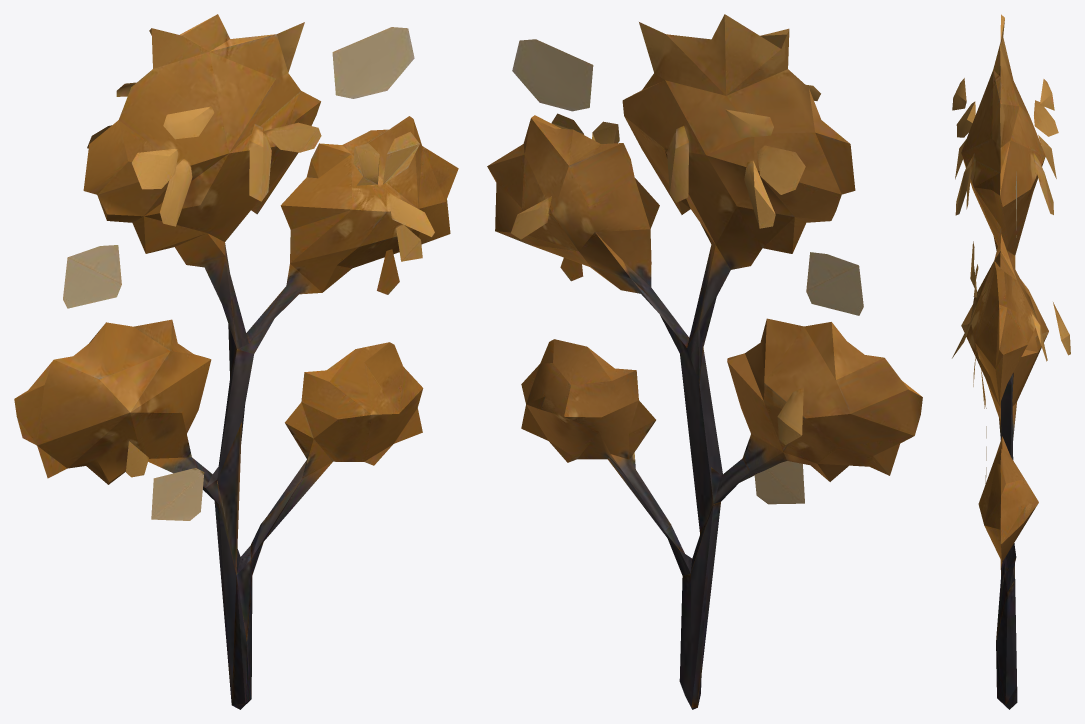
File: jt-ambre-semis.glb
3 renders of one model, left to right at view 1: azimuth 30°, elevation 25°; view 2: azimuth 150°, elevation 25°; view 3: azimuth 270°, elevation 25°, orthographic. The views are drawn at different scales.
Parts seen in each view (by area): view 1: jt-ambre-semis; view 2: jt-ambre-semis; view 3: jt-ambre-semis.
Part boxes in pixels (x1,y1,x2,y2): jt-ambre-semis: [14, 14, 458, 709]; jt-ambre-semis: [487, 14, 922, 709]; jt-ambre-semis: [952, 14, 1070, 709].
Size of the model in its own units: 1.25 by 1.91 by 0.3176.
Materials: 1 (1 with a texture image).
